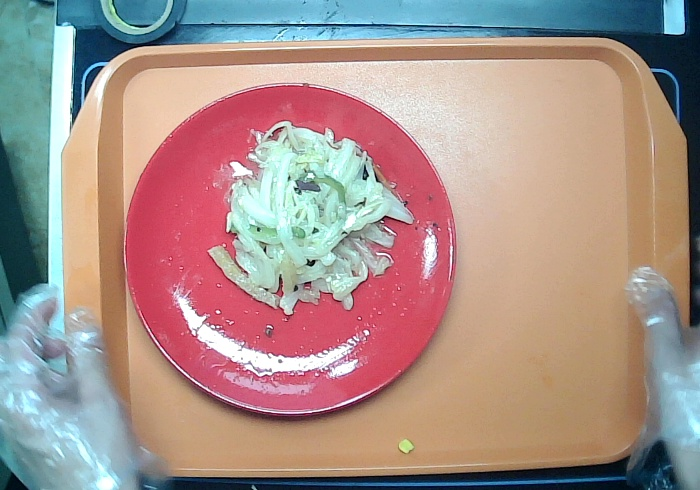HZYJPL-Hong_Se_Yuan_Pan: (119, 83, 454, 419)
